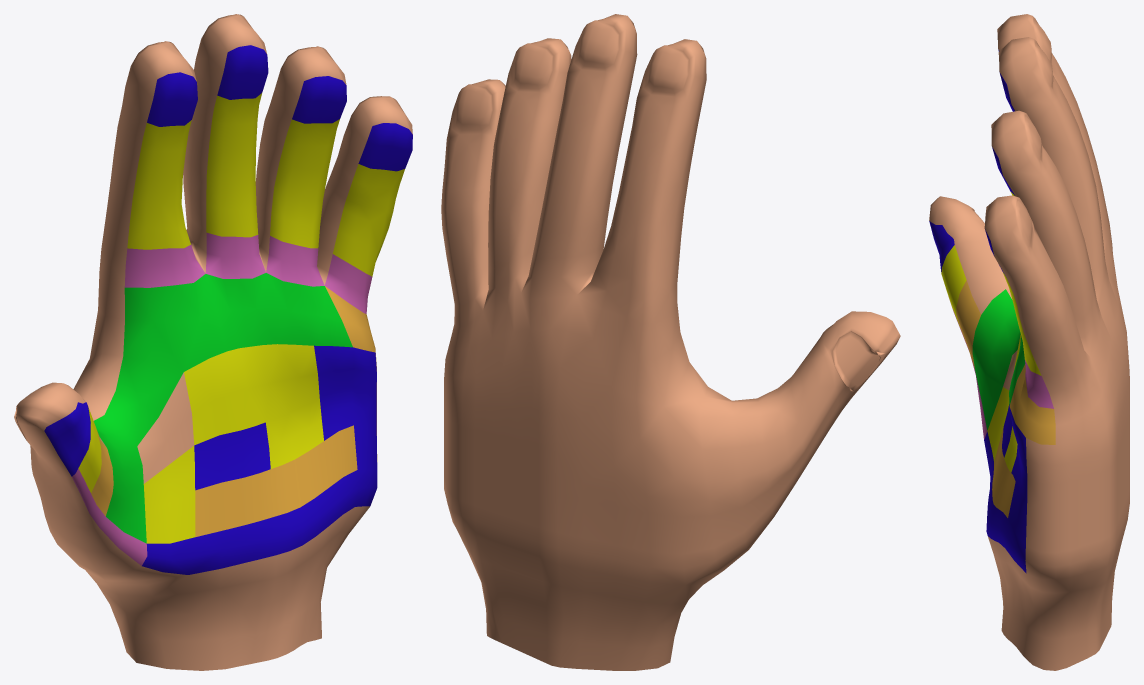
Rendered from tangan.fbx.
3 views of the same model, side by side, from view 1: azimuth 30°, elevation 25°; view 2: azimuth 150°, elevation 25°; view 3: azimuth 270°, elevation 25° (orthographic). The views are drawn at different scales.
Visible parts, largest first — view 1: Default; view 2: Default; view 3: Default.
Part boxes in pixels (x1=…): Default: x1=14, y1=14, x2=412, y2=670; Default: x1=441, y1=14, x2=900, y2=670; Default: x1=929, y1=14, x2=1129, y2=670.
Bounding box in the file's own units: 3.2 × 4.71 × 1.47.
